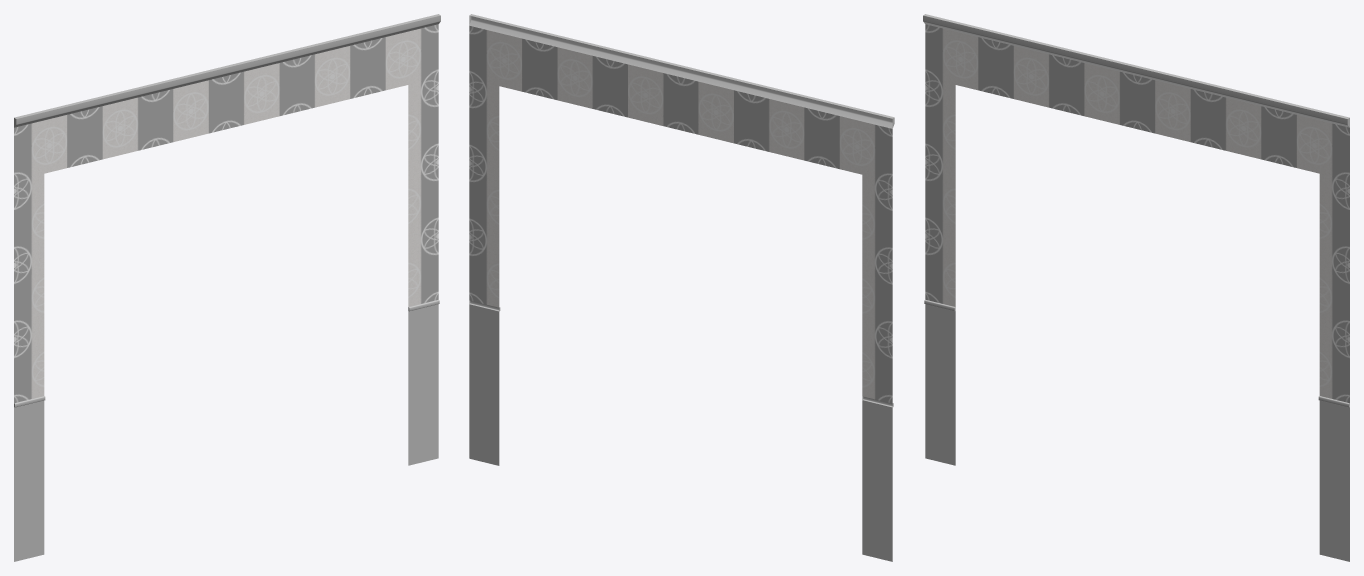
File: WallNiche03_350cmFrame300cm.FBX
The picture shows the model from 3 angles, left to right: view 1: azimuth 30°, elevation 25°; view 2: azimuth 150°, elevation 25°; view 3: azimuth 330°, elevation 25°; orthographic projection.
Visible parts, largest first — view 1: WallNiche03_350cmFrame300cm; view 2: WallNiche03_350cmFrame300cm; view 3: WallNiche03_350cmFrame300cm.
Part boxes in pixels (bbox=[...]): WallNiche03_350cmFrame300cm: bbox=[14, 14, 440, 561]; WallNiche03_350cmFrame300cm: bbox=[469, 14, 894, 561]; WallNiche03_350cmFrame300cm: bbox=[923, 14, 1349, 561].
Bounding box in the file's own units: 3500 × 3500 × 30.
